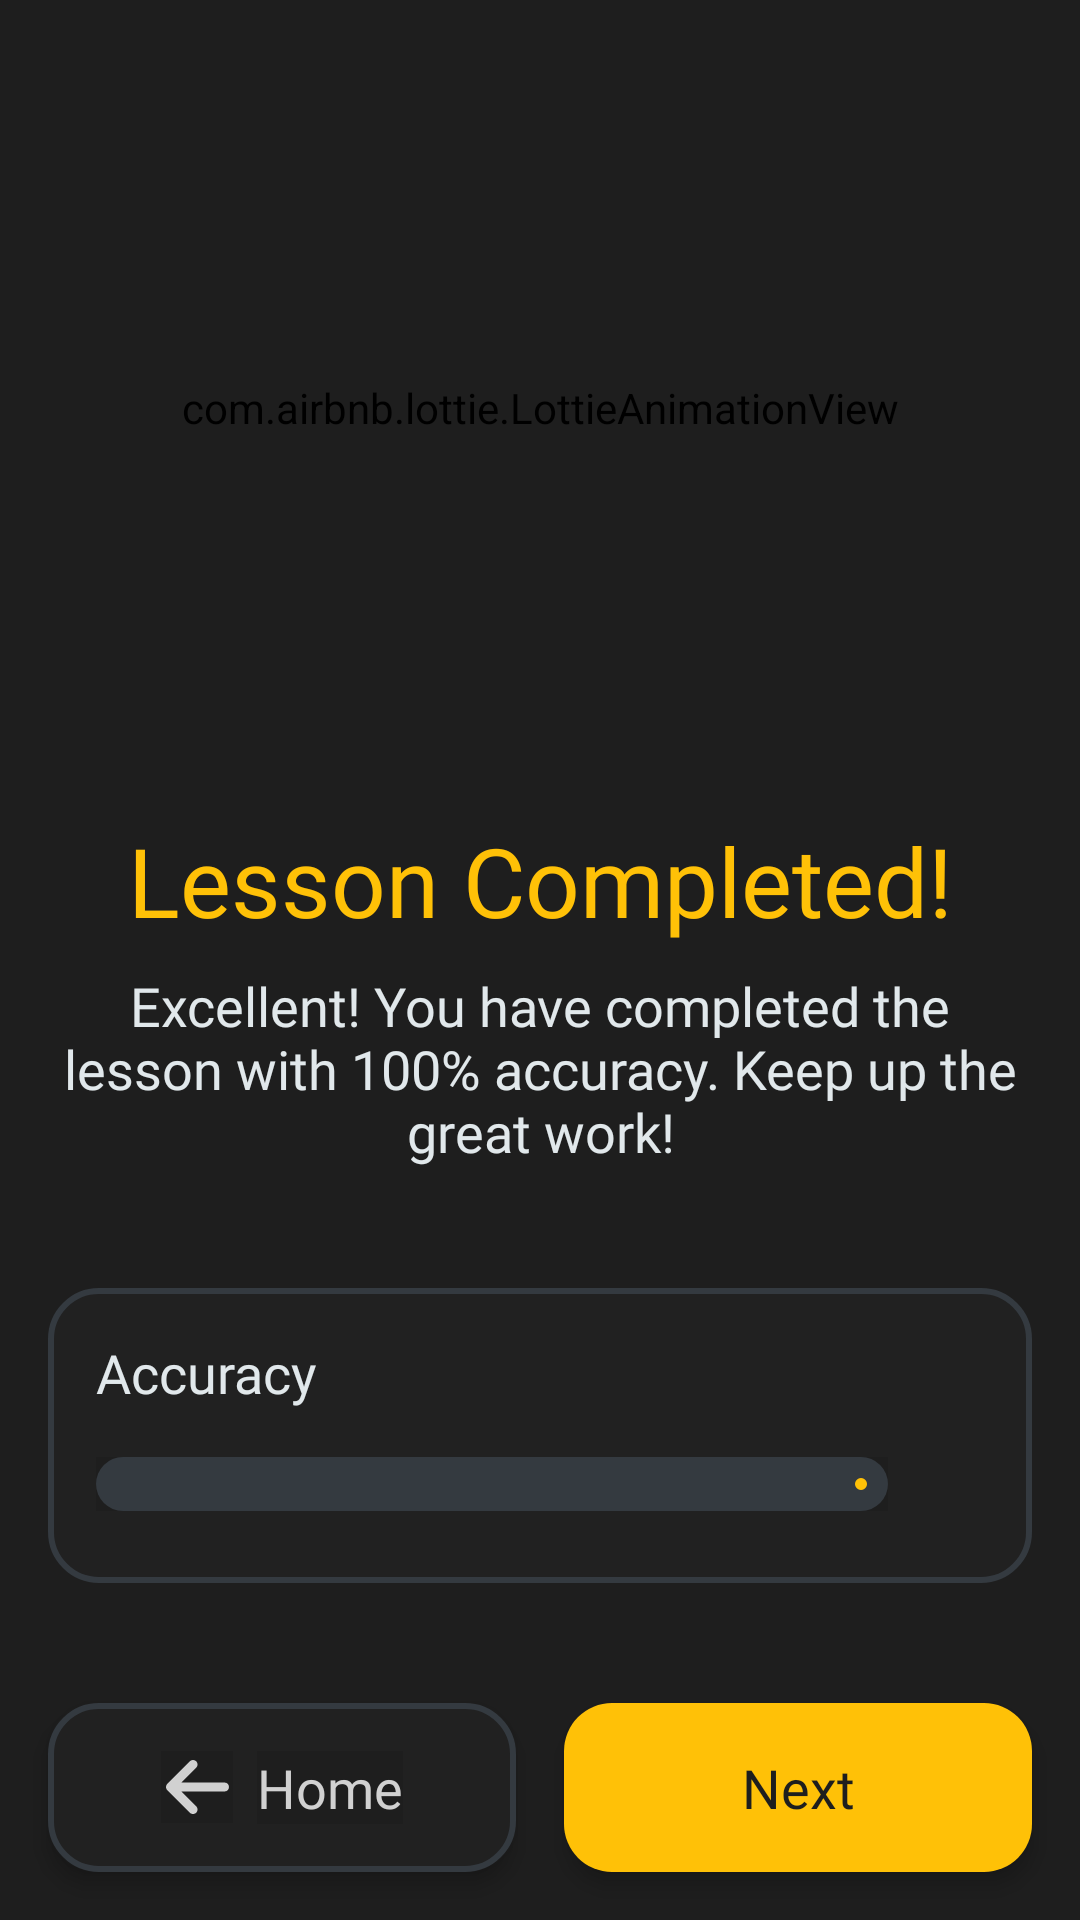

Icons on this 1080px×1920px Android screen, each with its box as {"x1": x1, "y1": y1, "x2": x2, "y2": y2}:
arrow left: {"x1": 166, "y1": 1760, "x2": 229, "y2": 1814}
